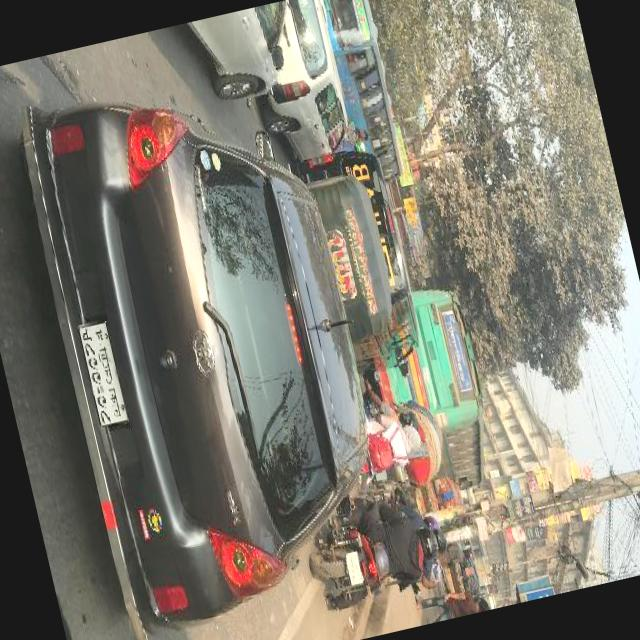bus: (362, 282, 505, 508), (321, 0, 410, 187)
car: (6, 49, 408, 640), (240, 0, 356, 166), (186, 2, 310, 118)
motorcycle: (296, 482, 455, 618), (310, 173, 402, 347), (336, 373, 426, 478), (357, 396, 448, 496), (410, 476, 468, 534), (432, 550, 482, 606), (404, 394, 444, 453)
truck: (288, 142, 427, 390)
